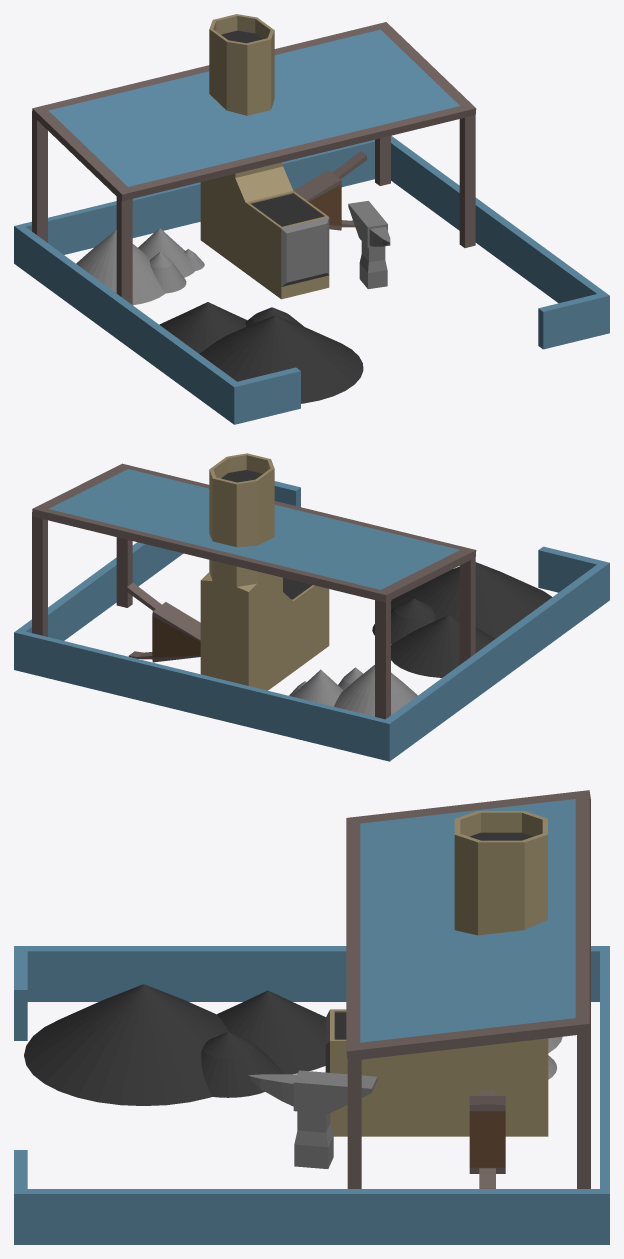
Rendered from Forge TI.fbx.
The picture shows the model from 3 angles, top to bottom: view 1: azimuth 30°, elevation 25°; view 2: azimuth 150°, elevation 25°; view 3: azimuth 270°, elevation 25°; orthographic projection. The views are drawn at different scales.
Visible parts, largest first — view 1: Forge TI; view 2: Forge TI; view 3: Forge TI.
Part boxes in pixels (x1=…): Forge TI: x1=14, y1=14, x2=609, y2=424; Forge TI: x1=14, y1=453, x2=609, y2=761; Forge TI: x1=14, y1=790, x2=609, y2=1244.
Size of the model in its own units: 1569 by 872 by 1594.
